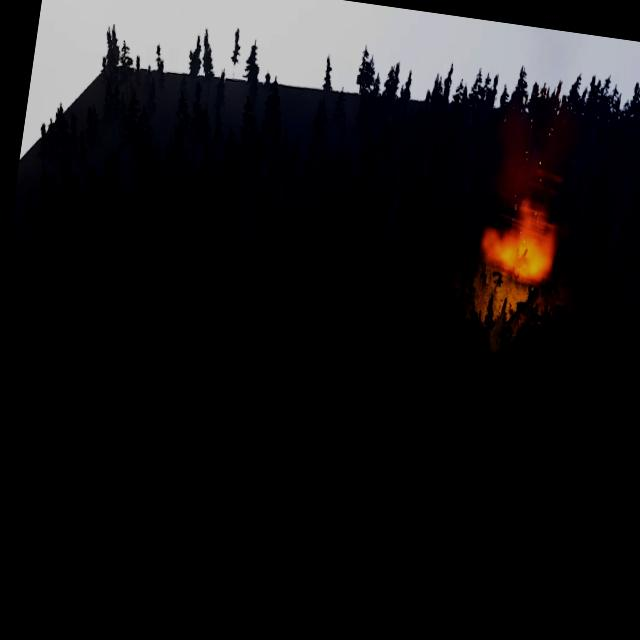fire: (476, 196, 562, 288)
smoke: (484, 88, 579, 210)
